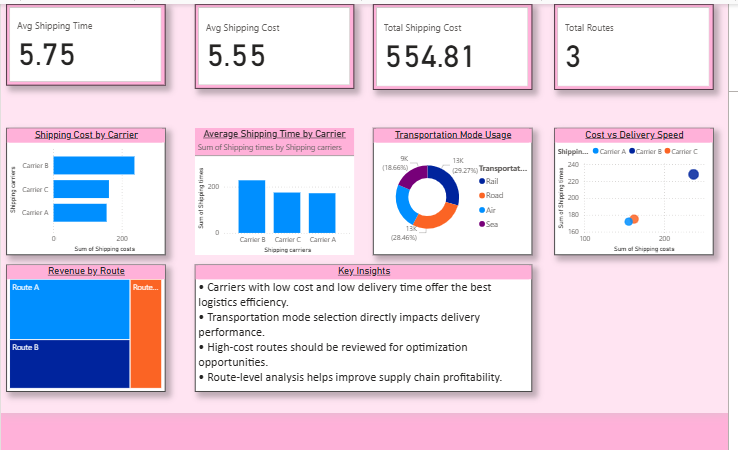

Layout of this report page (visuals, bound fields, positions):
{"tool":"powerbi","page":{"name":"Logistics & Transportation","canvas":[1280,720],"ordinal":3},"visuals":[{"type":"cardVisual","fields":{"Data":["Table2.Avg Shipping Time"]},"box":[9.3,0,279.9,143.7],"z":0},{"type":"cardVisual","fields":{"Data":["Table.Avg Shipping Cost"]},"box":[341.5,0,279.9,149.3],"z":1},{"type":"cardVisual","fields":{"Data":["Table2.Total Shipping Cost"]},"box":[655,0,279.9,151.2],"z":2},{"type":"cardVisual","fields":{"Data":["Table2.Total Routes"]},"box":[974.2,0,279.9,151.2],"z":3},{"type":"clusteredBarChart","title":"Shipping Cost by Carrier","fields":{"Category":["SupplyChain.Shipping carriers"],"Y":["Sum(SupplyChain.Shipping costs)"]},"box":[9.3,218.3,279.9,223.9],"z":4},{"type":"clusteredColumnChart","title":"Average Shipping Time by Carrier","fields":{"Category":["SupplyChain.Shipping carriers"],"Y":["Sum(SupplyChain.Shipping times)"]},"box":[341.5,218.3,279.9,223.9],"z":5},{"type":"donutChart","title":"Transportation Mode Usage","fields":{"Category":["SupplyChain.Transportation modes"],"Y":["Sum(SupplyChain.Number of products sold)"]},"box":[655,218.3,279.9,223.9],"z":6},{"type":"scatterChart","title":"Cost vs Delivery Speed","fields":{"X":["Sum(SupplyChain.Shipping costs)"],"Y":["Sum(SupplyChain.Shipping times)"],"Size":["Sum(SupplyChain.Revenue generated)"],"Series":["SupplyChain.Shipping carriers"]},"box":[974.2,218.3,279.9,223.9],"z":7},{"type":"treemap","title":"Revenue by Route","fields":{"Group":["SupplyChain.Routes"],"Values":["Sum(SupplyChain.Revenue generated)"]},"box":[9,459,280,224],"z":8},{"type":"textbox","title":"Key Insights","box":[341.5,459.1,593.5,223.9],"z":9}]}

Visuals, with their boxes in screenshot pixels (x1, y1, x2, y2):
cardVisual - Table2.Avg Shipping Time: crop(3, 2, 163, 84)
cardVisual - Table.Avg Shipping Cost: crop(192, 2, 351, 87)
cardVisual - Table2.Total Shipping Cost: crop(371, 2, 530, 88)
cardVisual - Table2.Total Routes: crop(552, 2, 711, 88)
"Shipping Cost by Carrier" clusteredBarChart: crop(3, 126, 163, 253)
"Average Shipping Time by Carrier" clusteredColumnChart: crop(192, 126, 351, 253)
"Transportation Mode Usage" donutChart: crop(371, 126, 530, 253)
"Cost vs Delivery Speed" scatterChart: crop(552, 126, 711, 253)
"Revenue by Route" treemap: crop(3, 263, 162, 390)
"Key Insights" textbox: crop(192, 263, 530, 390)
